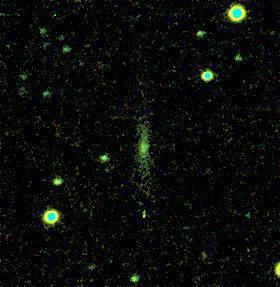star: (128, 202, 158, 232)
